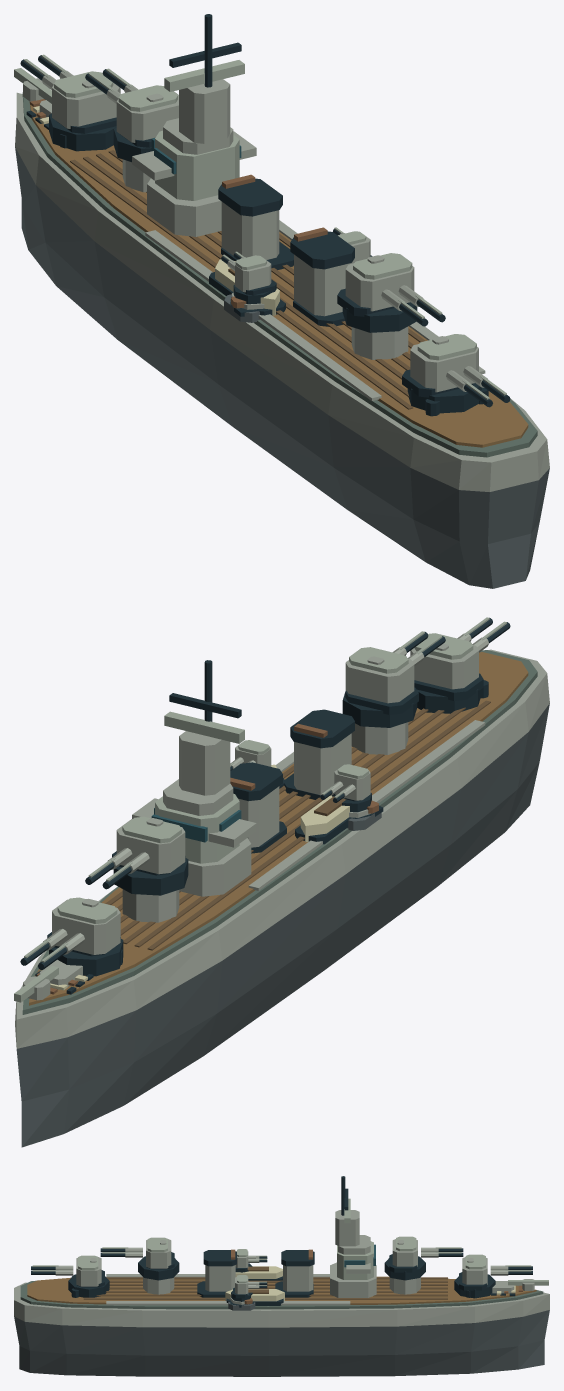
The model's file is historic-zara.glb.
The picture shows the model from 3 angles, top to bottom: view 1: azimuth 30°, elevation 25°; view 2: azimuth 150°, elevation 25°; view 3: azimuth 270°, elevation 25°; orthographic projection. The views are drawn at different scales.
Parts seen in each view (by area): view 1: historic-zara-historic-zara-geometry, historic-zara-part_bridge.039-geometry, historic-zara-turret_main_2.027-geometry, historic-zara-turret_main_3.015-geometry, historic-zara-turret_main_0.029-geometry, historic-zara-historic_funnel_0.040-geometry, historic-zara-historic_funnel_1.019-geometry, historic-zara-turret_main_1.028-geometry, historic-zara-turret_aa_aa-port.041-geometry; view 2: historic-zara-historic-zara-geometry, historic-zara-part_bridge.039-geometry, historic-zara-turret_main_2.027-geometry, historic-zara-turret_main_1.028-geometry, historic-zara-turret_main_0.029-geometry, historic-zara-turret_main_3.015-geometry, historic-zara-historic_funnel_1.019-geometry, historic-zara-historic_funnel_0.040-geometry, historic-zara-turret_aa_aa-port.041-geometry, historic-zara-turret_aa_aa-starboard.039-geometry; view 3: historic-zara-historic-zara-geometry, historic-zara-part_bridge.039-geometry, historic-zara-turret_main_1.028-geometry, historic-zara-turret_main_2.027-geometry, historic-zara-turret_main_0.029-geometry, historic-zara-turret_main_3.015-geometry, historic-zara-historic_funnel_0.040-geometry, historic-zara-historic_funnel_1.019-geometry, historic-zara-turret_aa_aa-starboard.039-geometry, historic-zara-turret_aa_aa-port.041-geometry.
Boxes of the visible parts, <box> form: historic-zara-historic-zara-geometry: <box>14,68,549,588</box>; historic-zara-part_bridge.039-geometry: <box>132,14,256,236</box>; historic-zara-turret_main_2.027-geometry: <box>337,253,445,332</box>; historic-zara-turret_main_3.015-geometry: <box>402,334,510,413</box>; historic-zara-turret_main_0.029-geometry: <box>20,54,120,151</box>; historic-zara-historic_funnel_0.040-geometry: <box>218,174,293,269</box>; historic-zara-historic_funnel_1.019-geometry: <box>290,227,354,326</box>; historic-zara-turret_main_1.028-geometry: <box>85,68,178,162</box>; historic-zara-turret_aa_aa-port.041-geometry: <box>221,251,276,304</box>; historic-zara-historic-zara-geometry: <box>14,649,549,1147</box>; historic-zara-part_bridge.039-geometry: <box>132,660,256,896</box>; historic-zara-turret_main_2.027-geometry: <box>342,631,445,727</box>; historic-zara-turret_main_1.028-geometry: <box>85,816,188,895</box>; historic-zara-turret_main_0.029-geometry: <box>20,897,123,976</box>; historic-zara-turret_main_3.015-geometry: <box>410,617,510,713</box>; historic-zara-historic_funnel_1.019-geometry: <box>283,709,354,799</box>; historic-zara-historic_funnel_0.040-geometry: <box>230,762,286,853</box>; historic-zara-turret_aa_aa-port.041-geometry: <box>320,764,371,812</box>; historic-zara-turret_aa_aa-starboard.039-geometry: <box>230,740,271,770</box>; historic-zara-historic-zara-geometry: <box>14,1266,549,1376</box>; historic-zara-part_bridge.039-geometry: <box>330,1176,376,1297</box>; historic-zara-turret_main_1.028-geometry: <box>384,1236,463,1280</box>; historic-zara-turret_main_2.027-geometry: <box>100,1237,179,1280</box>; historic-zara-turret_main_0.029-geometry: <box>454,1254,532,1298</box>; historic-zara-turret_main_3.015-geometry: <box>31,1255,109,1297</box>; historic-zara-historic_funnel_0.040-geometry: <box>275,1249,314,1297</box>; historic-zara-historic_funnel_1.019-geometry: <box>197,1249,236,1297</box>; historic-zara-turret_aa_aa-starboard.039-geometry: <box>231,1275,267,1301</box>; historic-zara-turret_aa_aa-port.041-geometry: <box>235,1249,267,1272</box>.
Bounding box in the file's own units: 0.7199 × 1.67 × 4.32.
